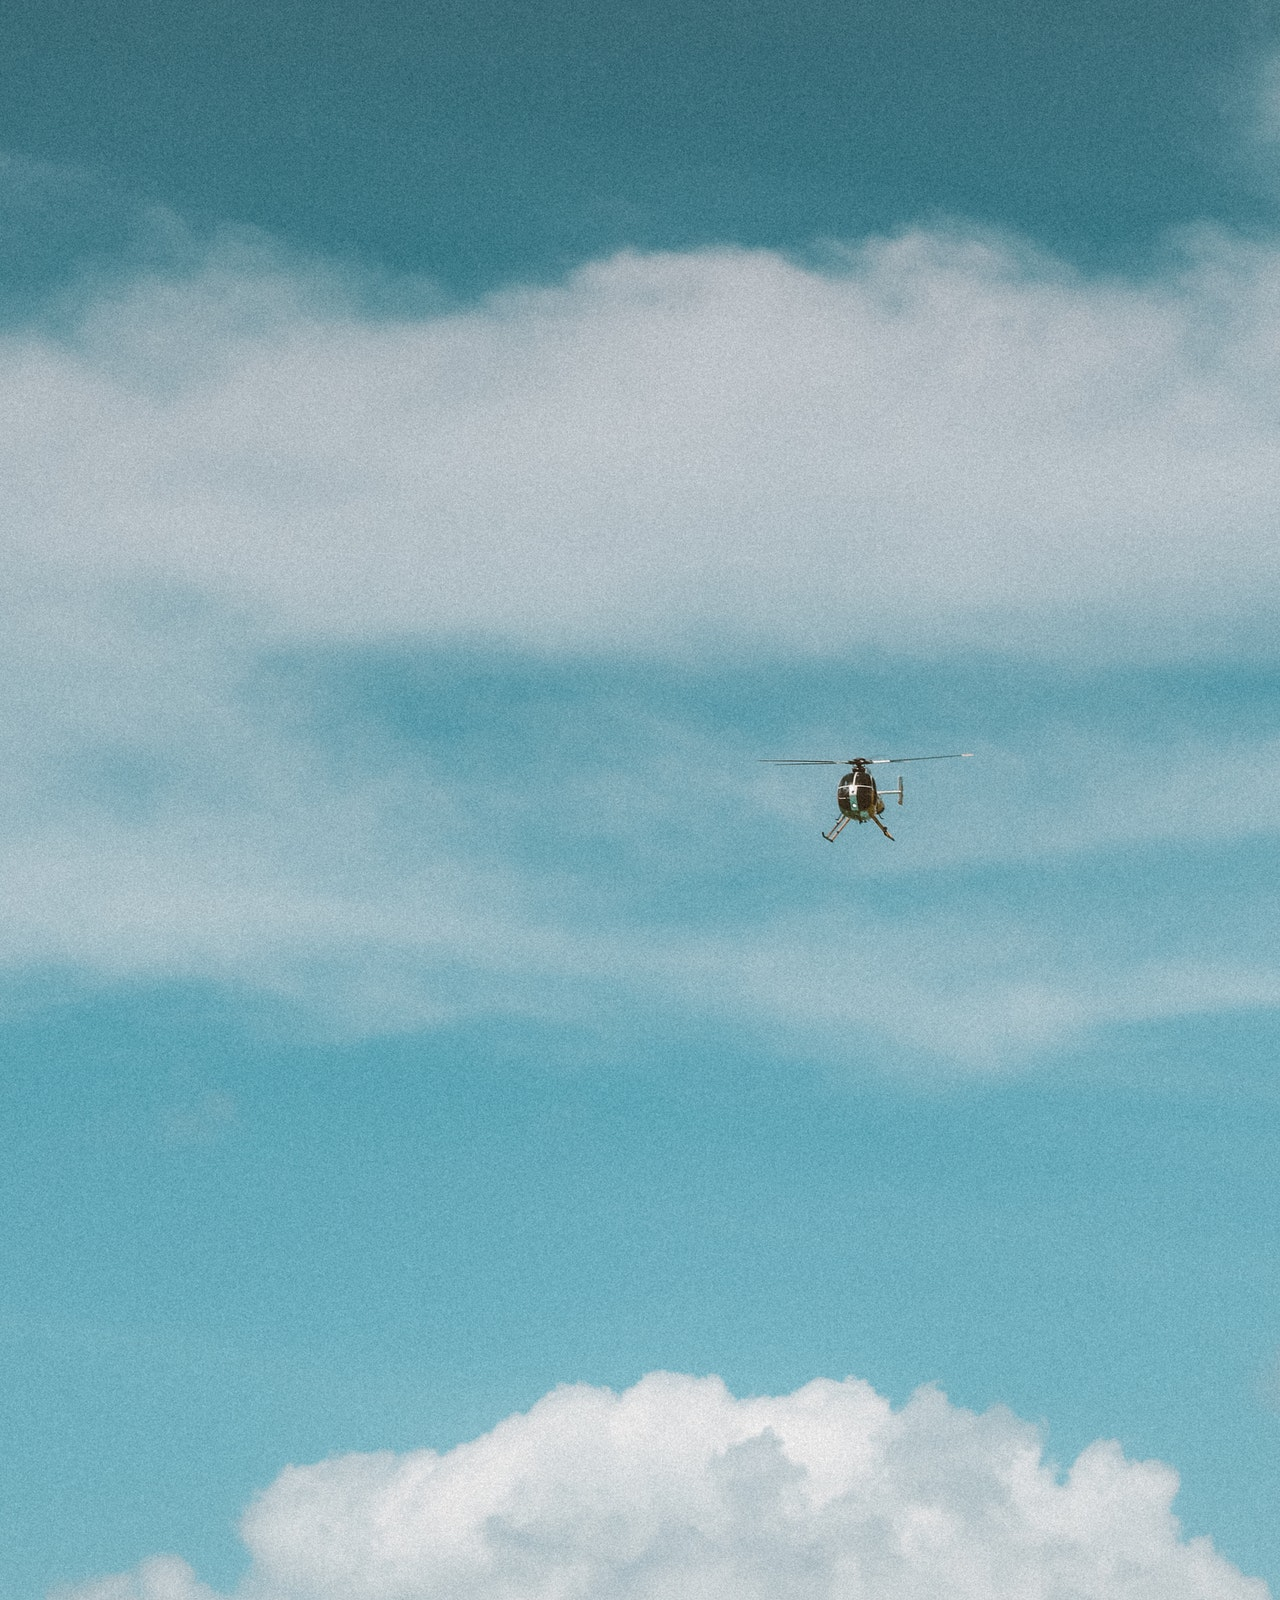heli: (754, 751, 974, 846)
